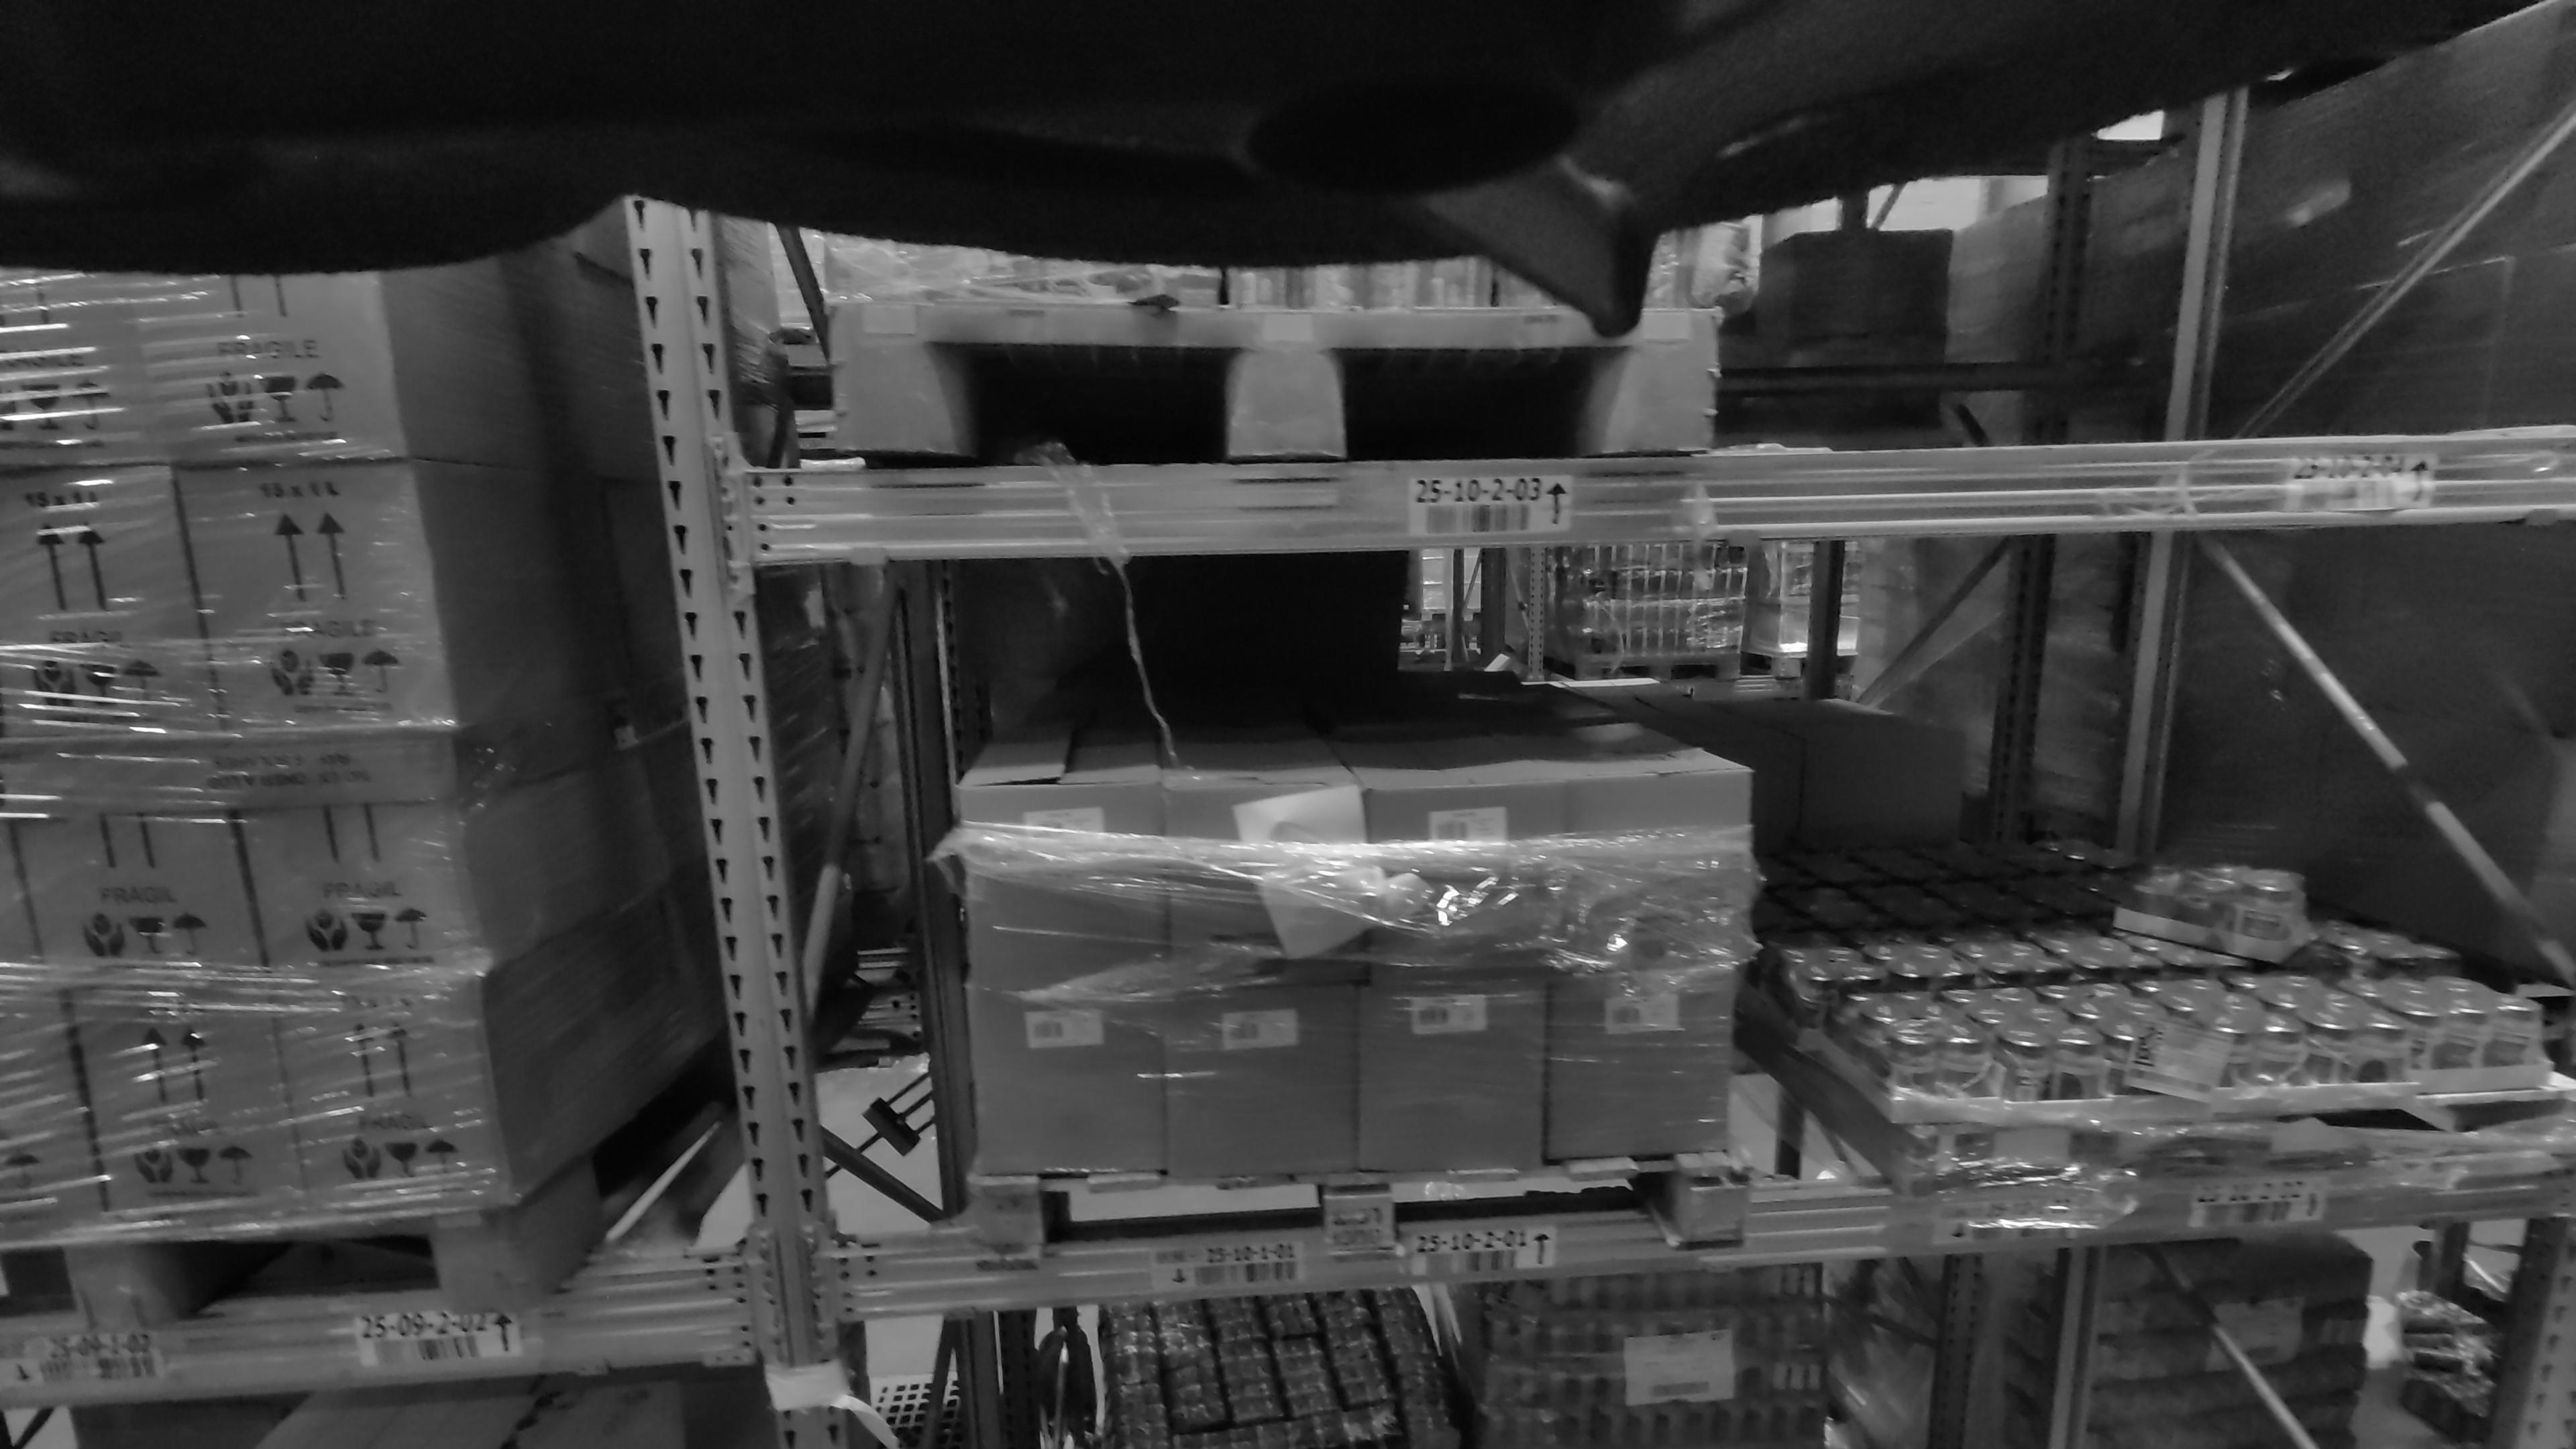empty-shelf: (1805, 159, 2511, 421)
